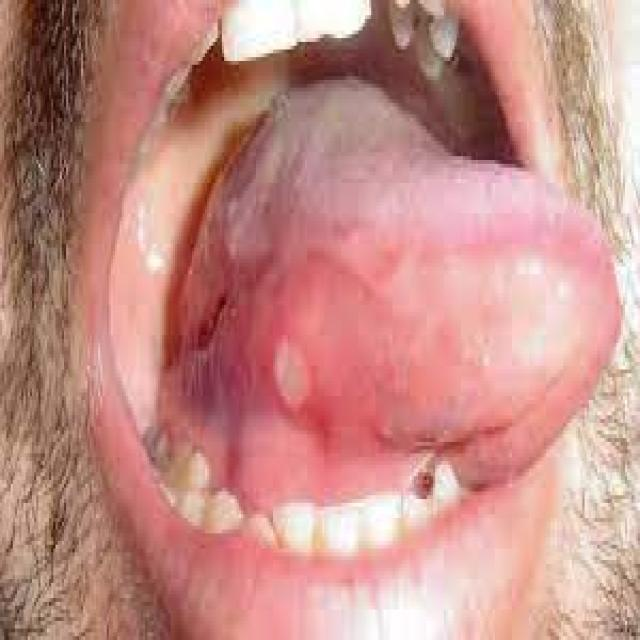processing_area: (107, 66, 617, 511)
ulcer-detection: (248, 268, 362, 428)
